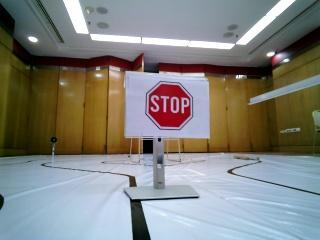stop: (124, 72, 208, 136)
